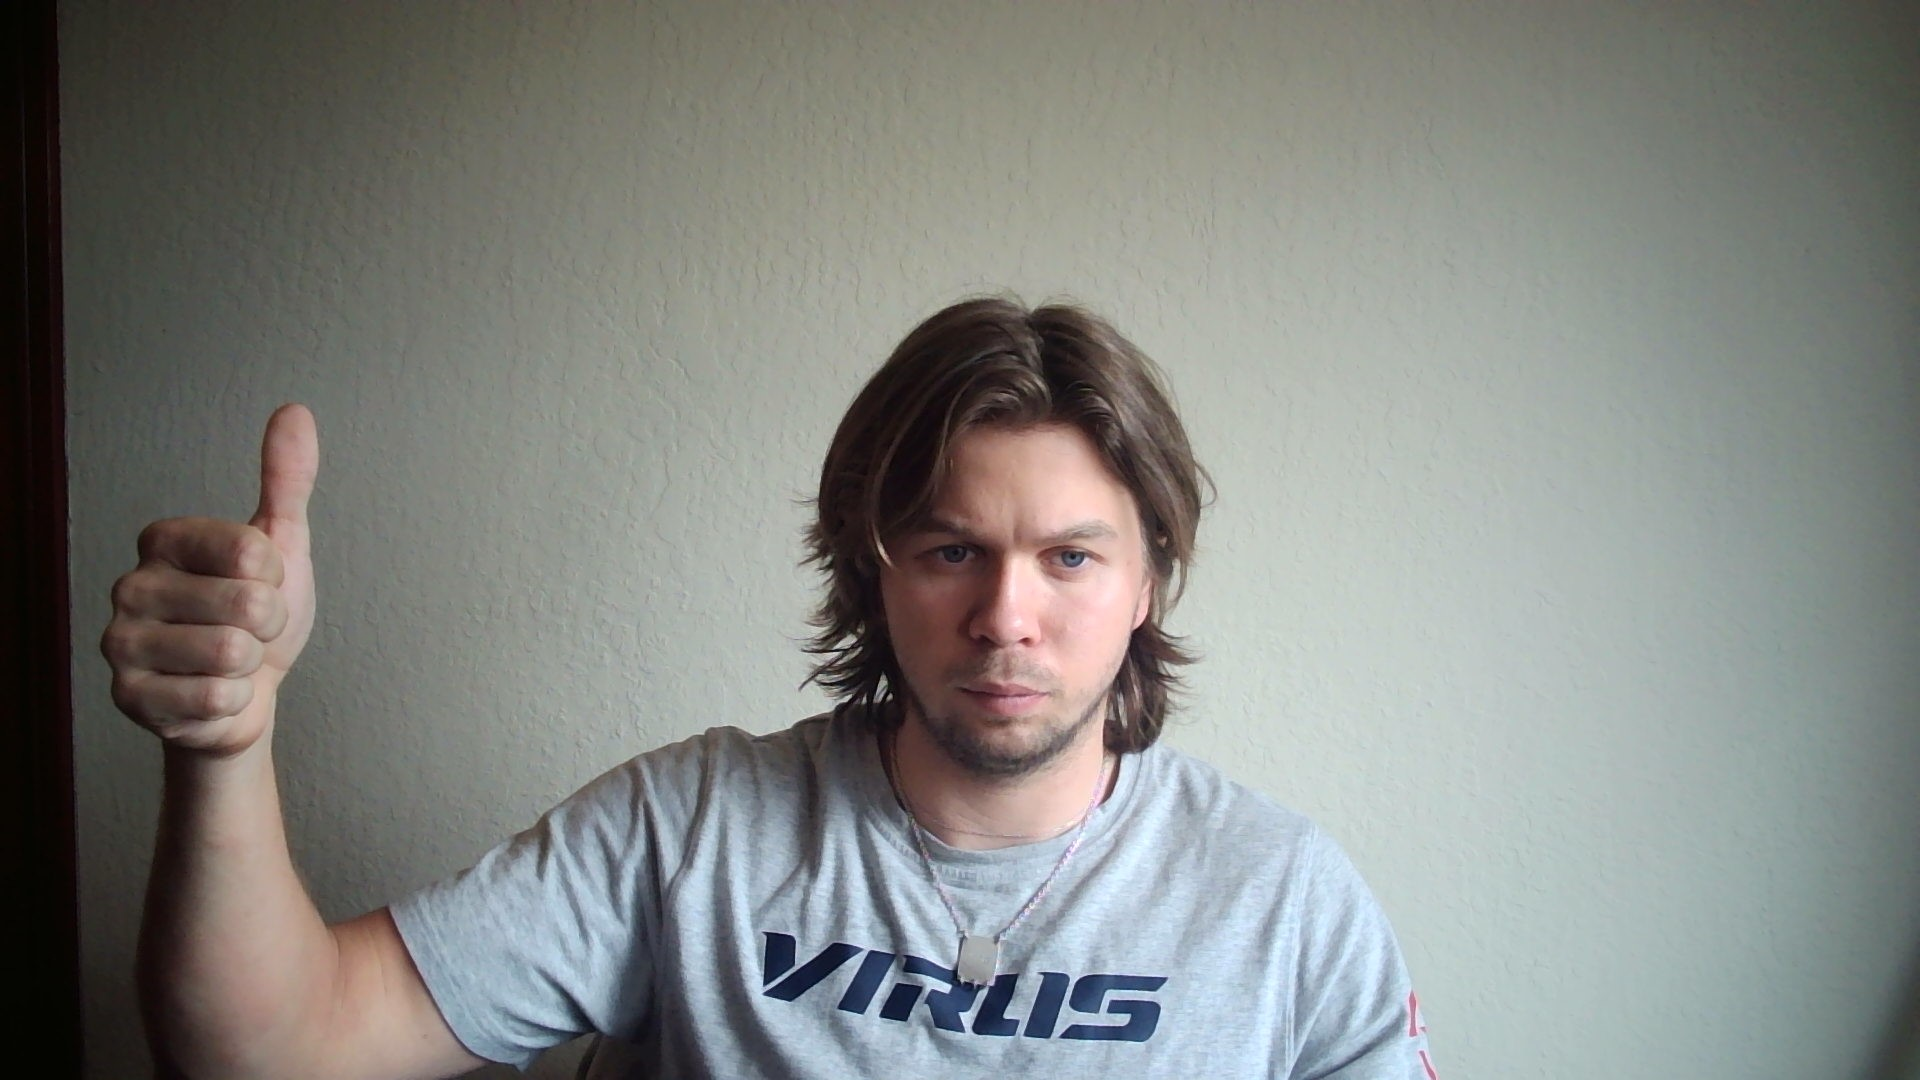good: (99, 404, 320, 756)
